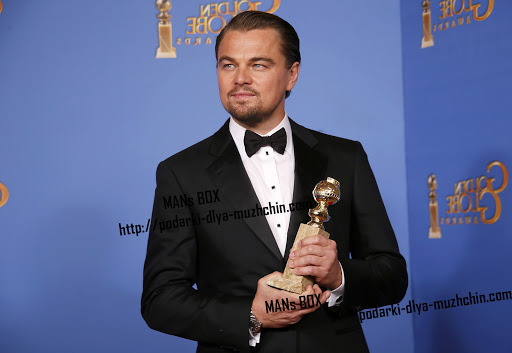bow: (239, 126, 289, 159)
